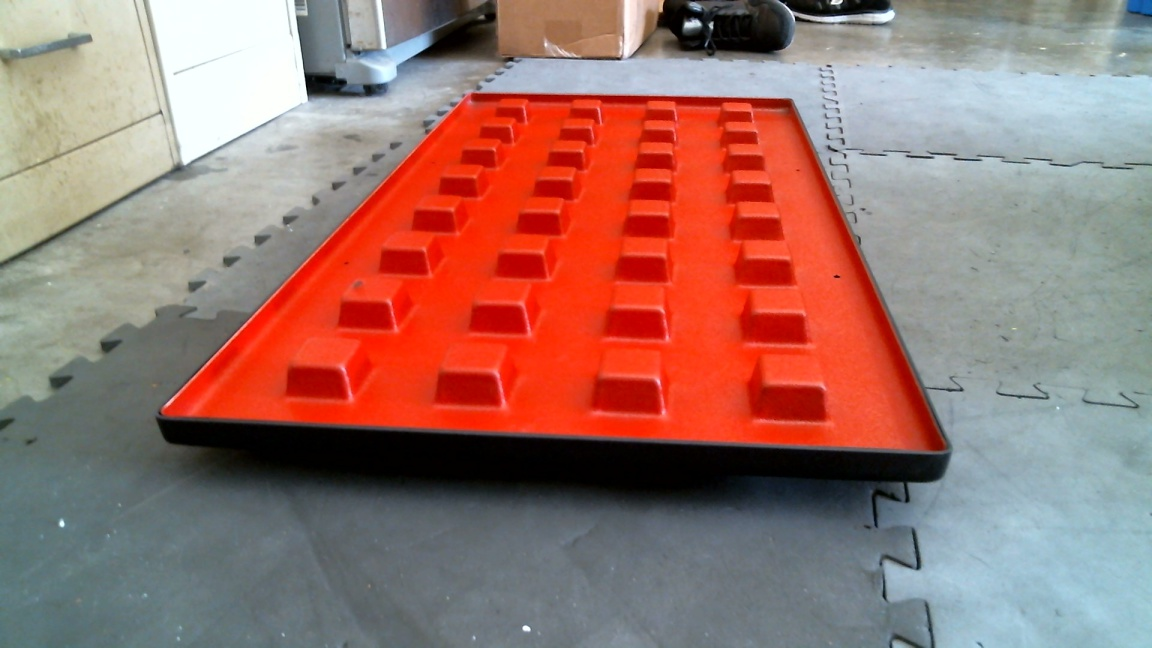red_foundation: (154, 91, 957, 503)
